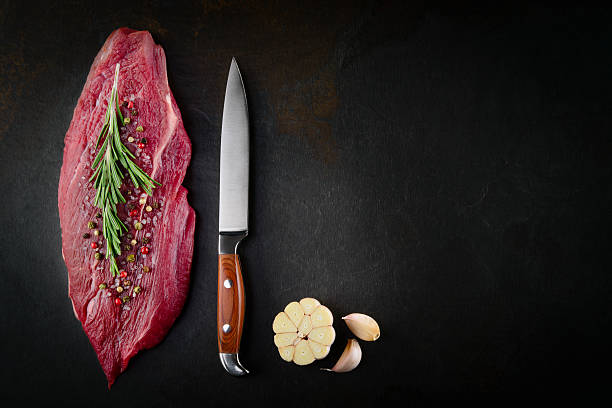knife: (214, 53, 253, 379)
